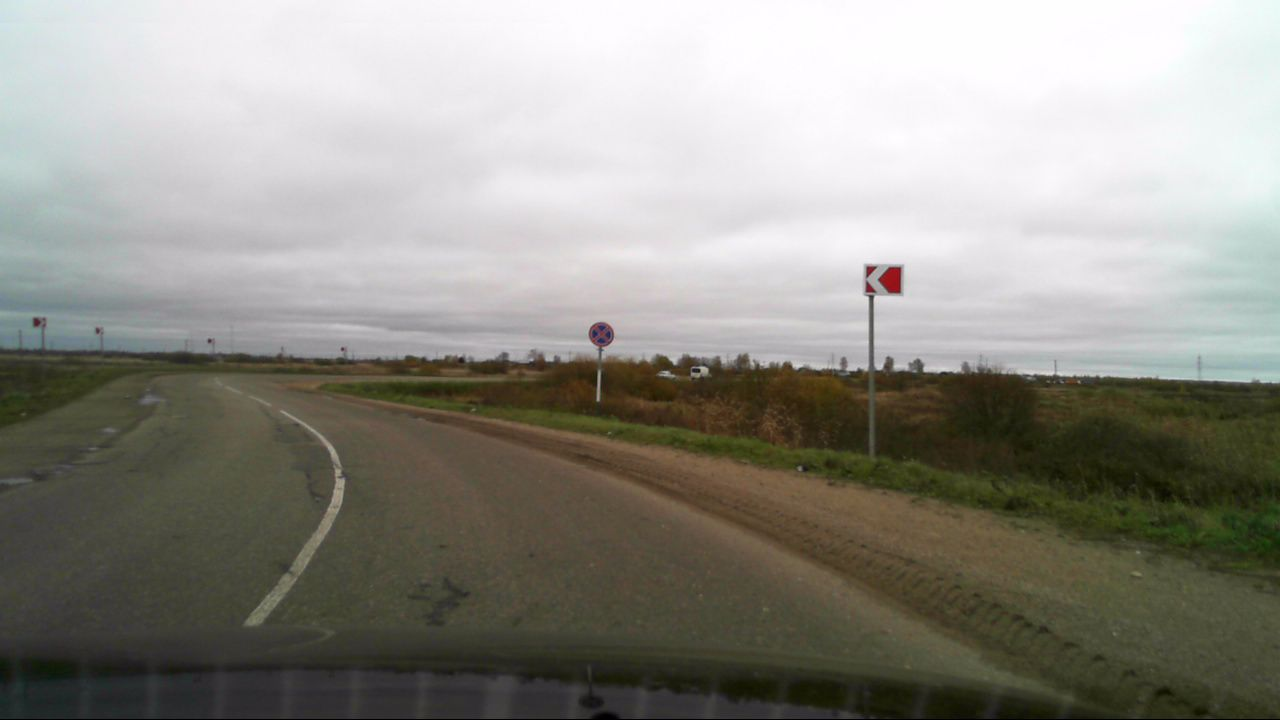No Parking: (588, 320, 615, 347)
